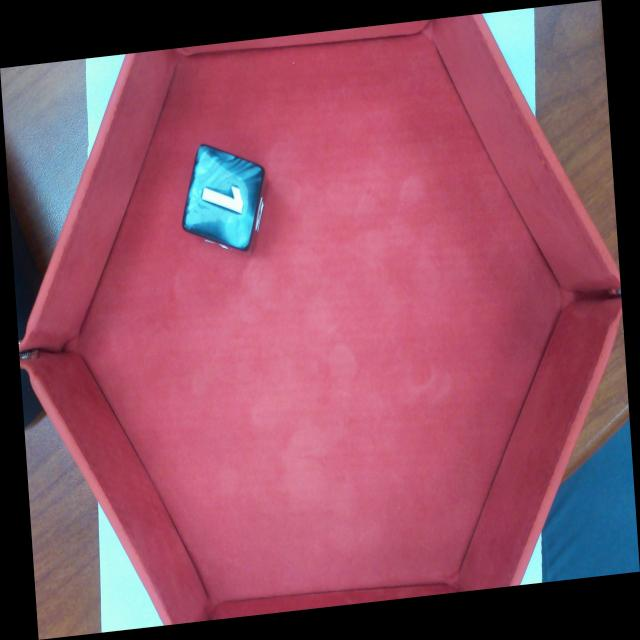dice: (179, 142, 267, 253)
